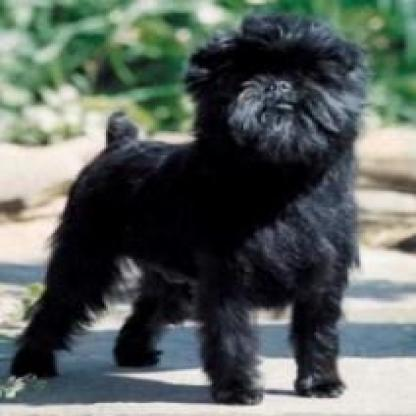affenpinscher: (10, 12, 363, 402)
